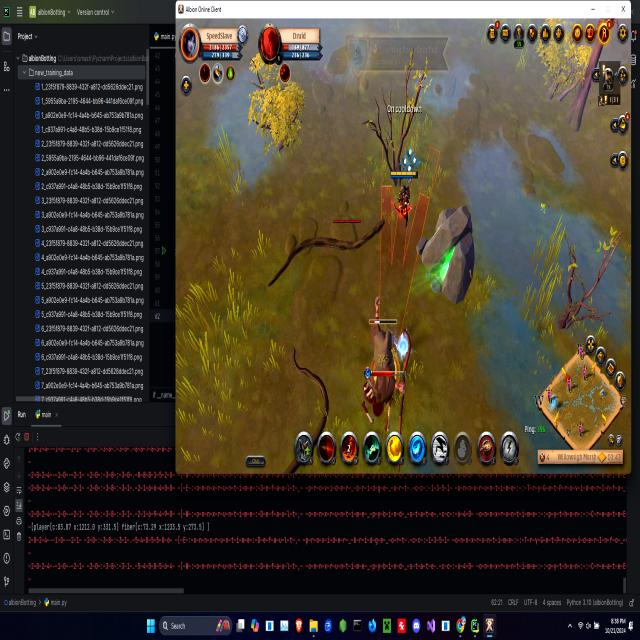hide: (399, 143, 420, 183)
ore: (265, 208, 390, 295), (278, 346, 331, 472), (365, 310, 409, 411)
red: (389, 168, 419, 222)
silver: (375, 124, 441, 386)
